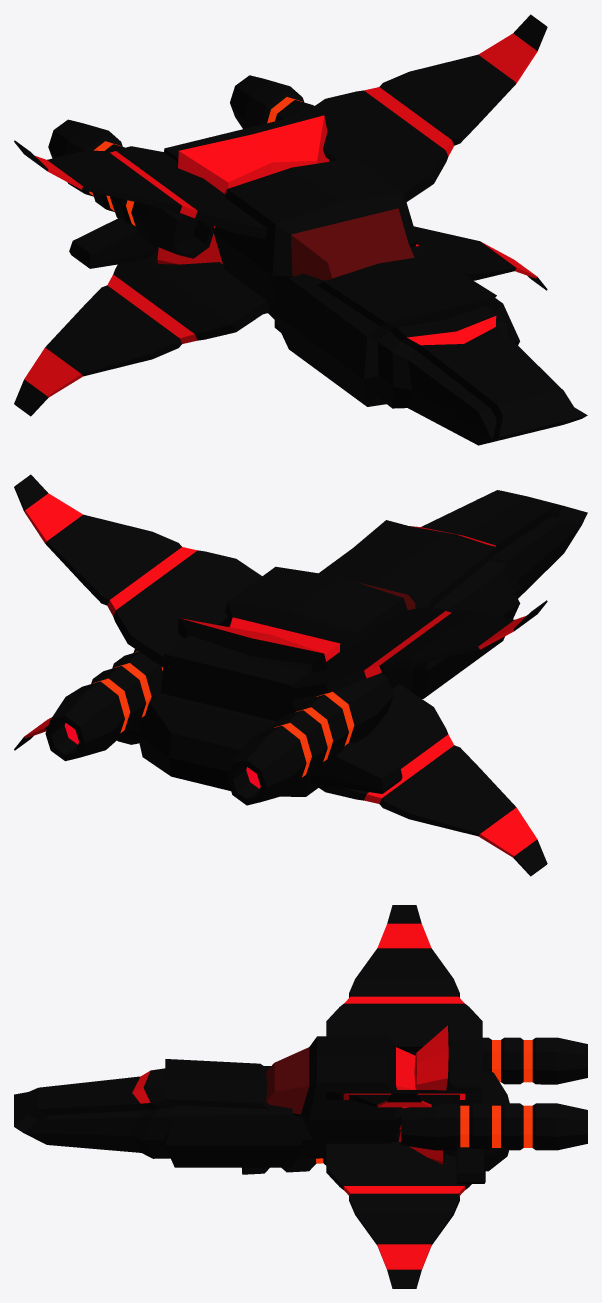
File: NaveVillanoTest.glb
The picture shows the model from 3 angles, top to bottom: view 1: azimuth 30°, elevation 25°; view 2: azimuth 150°, elevation 25°; view 3: azimuth 270°, elevation 25°; orthographic projection. The views are drawn at different scales.
Parts seen in each view (by area): view 1: Cube.001; view 2: Cube.001; view 3: Cube.001.
Boxes of the visible parts, <box> form: Cube.001: <box>14,14,587,445</box>; Cube.001: <box>14,474,587,876</box>; Cube.001: <box>14,905,587,1288</box>.
Size of the model in its own units: 8.65 by 4.23 by 11.17.
